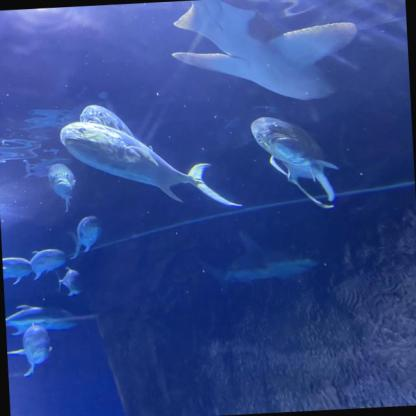fish: (57, 118, 241, 219), (245, 109, 352, 205), (71, 104, 159, 162), (5, 300, 88, 334), (13, 322, 60, 375), (20, 245, 70, 278), (70, 214, 107, 257), (50, 162, 81, 204), (2, 253, 38, 288), (55, 270, 95, 299)
shark: (162, 0, 359, 109), (195, 228, 320, 290)
